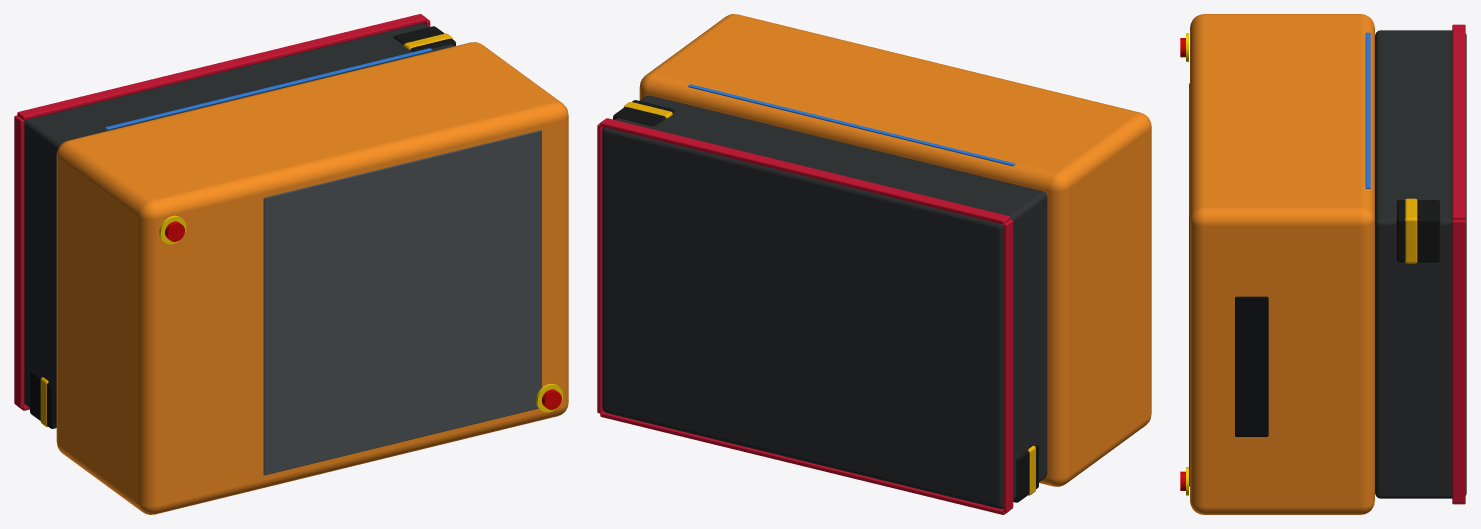
3 views of the same model, side by side, from view 1: azimuth 30°, elevation 25°; view 2: azimuth 150°, elevation 25°; view 3: azimuth 270°, elevation 25° (orthographic). The views are drawn at different scales.
Parts seen in each view (by area): view 1: shell, load_plate, chassis_skirt, safety_edge_left, safety_edge_rear, light_strip_left, scanner_rear_right, scanner_front_left; view 2: chassis_skirt, shell, safety_edge_left, safety_edge_rear, safety_edge_right, safety_edge_front, light_strip_left, scanner_rear_right, scanner_front_left; view 3: shell, chassis_skirt, front_window, safety_edge_front, safety_edge_left, scanner_front_left, light_strip_left, scanner_front_left_window, load_plate.
Part boxes in pixels (<box>): shell: <box>56,42,568,514</box>; load_plate: <box>263,130,541,475</box>; chassis_skirt: <box>24,23,454,427</box>; safety_edge_left: <box>17,14,427,120</box>; safety_edge_rear: <box>14,115,24,408</box>; light_strip_left: <box>105,48,432,130</box>; scanner_rear_right: <box>30,370,56,428</box>; scanner_front_left: <box>393,26,455,51</box>; chassis_skirt: <box>602,95,1047,508</box>; shell: <box>639,14,1151,486</box>; safety_edge_left: <box>600,118,1010,224</box>; safety_edge_rear: <box>1003,219,1013,512</box>; safety_edge_right: <box>600,411,1008,514</box>; safety_edge_front: <box>597,123,603,413</box>; light_strip_left: <box>688,84,1015,166</box>; scanner_rear_right: <box>1013,444,1038,502</box>; scanner_front_left: <box>613,100,675,126</box>; shell: <box>1190,14,1374,514</box>; chassis_skirt: <box>1375,30,1466,498</box>; front_window: <box>1235,296,1268,436</box>; safety_edge_front: <box>1452,220,1465,502</box>; safety_edge_left: <box>1452,24,1465,219</box>; scanner_front_left: <box>1396,200,1440,262</box>; light_strip_left: <box>1365,32,1370,188</box>; scanner_front_left_window: <box>1405,198,1417,263</box>; load_plate: <box>1189,83,1189,486</box>.
Bounding box in the file's own units: 1 × 0.706 × 0.593.
